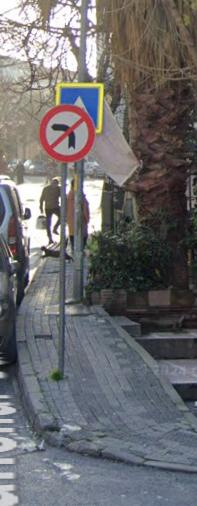leftturnsareforbidden: (44, 106, 92, 159)
